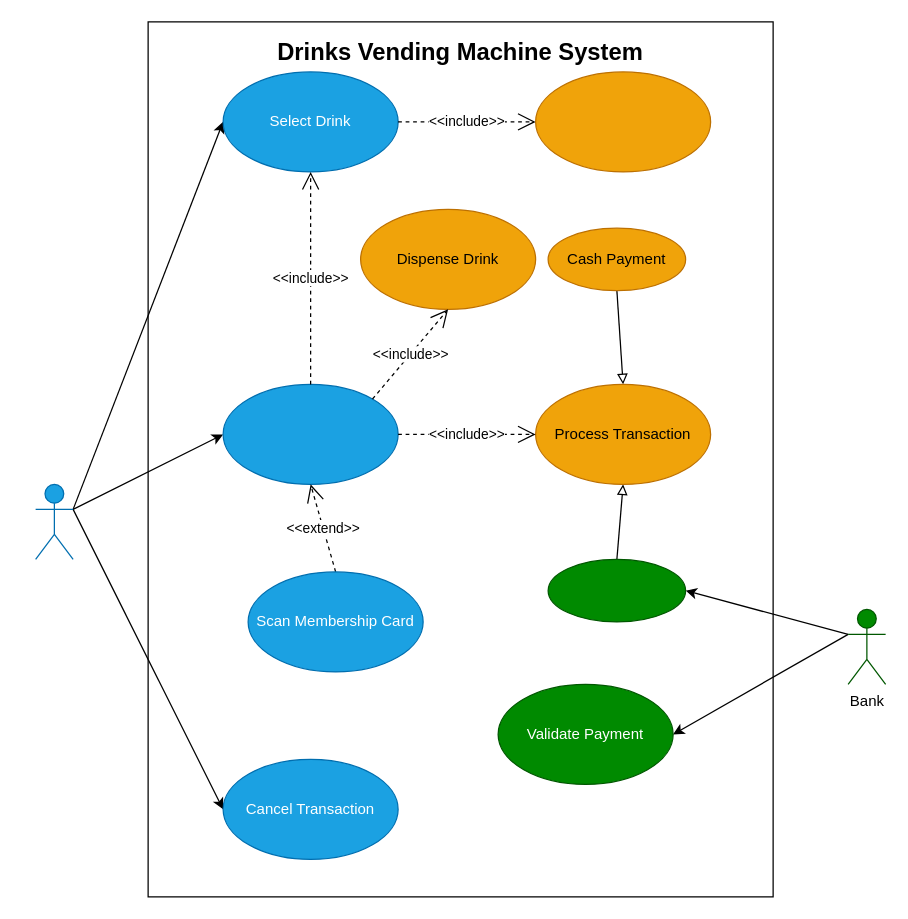
This 908x919 diagram has some shape labels left out. Here are the shapes that lost their labels. From the top down, the box of each, then its label:
(534, 71, 711, 172): Check Drink Availability
(222, 383, 398, 484): Purchase Drink
(34, 483, 73, 559): Customer
(547, 558, 686, 622): Card Payment
